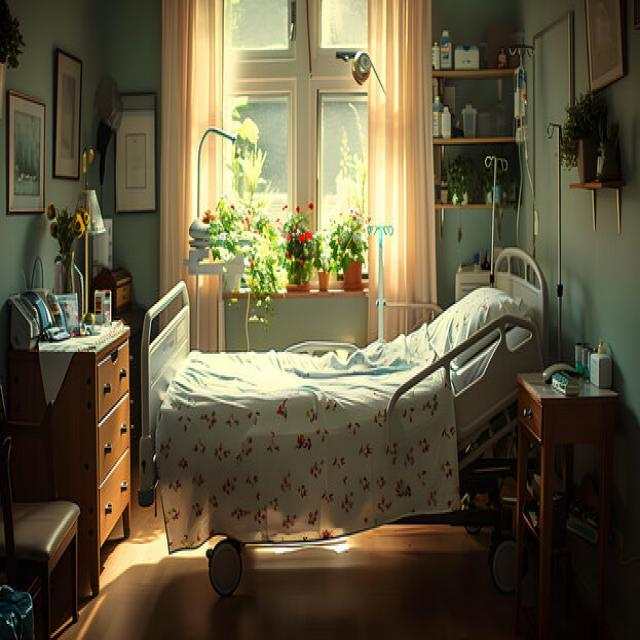bed: (140, 244, 548, 596)
